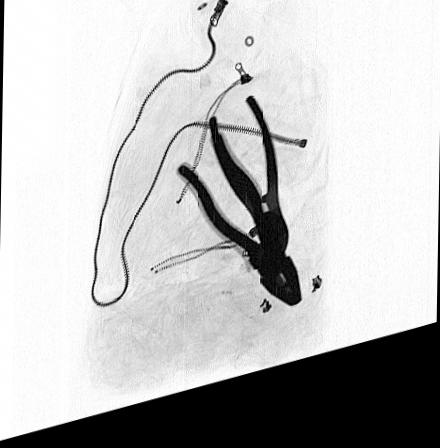Pliers: (172, 145, 303, 328), (206, 104, 288, 279)
